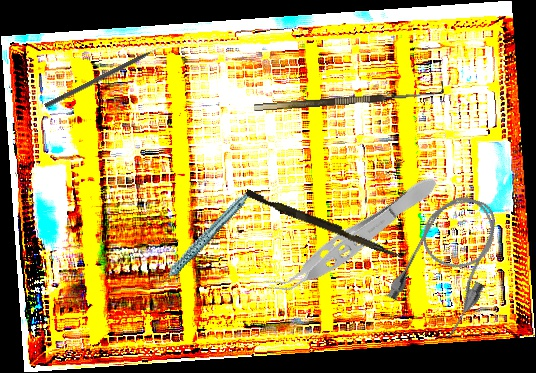Cannula: (380, 181, 520, 344)
Handpiece: (139, 192, 264, 288)
Hook Surgical: (44, 42, 168, 110), (253, 80, 444, 112)
Pusher: (243, 189, 405, 260)
Tissue Forceps: (262, 167, 444, 308)
